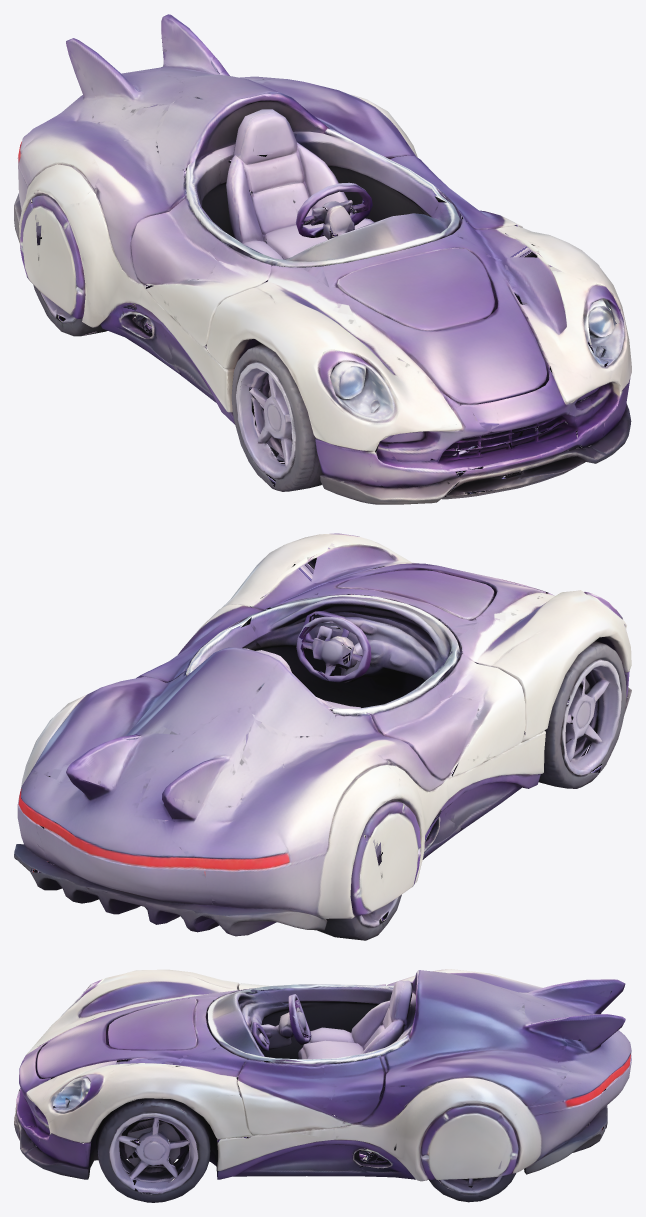
The model's file is nova-mobile.glb.
The picture shows the model from 3 angles, top to bottom: view 1: azimuth 30°, elevation 25°; view 2: azimuth 150°, elevation 25°; view 3: azimuth 270°, elevation 25°; orthographic projection. The views are drawn at different scales.
Visible parts, largest first — view 1: model; view 2: model; view 3: model.
Boxes of the visible parts, x1,y1,x2,y2 form: model: (14,14,631,504); model: (14,533,631,940); model: (14,969,631,1202).
Size of the model in its own units: 0.9276 by 0.5769 by 1.9.
Materials: 1 (1 with a texture image).
